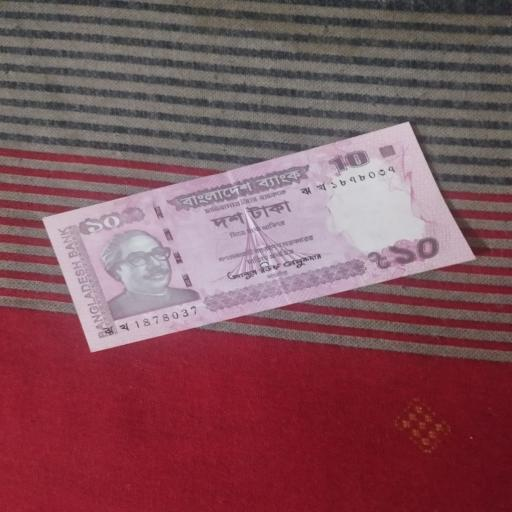10taka: (49, 118, 481, 357)
